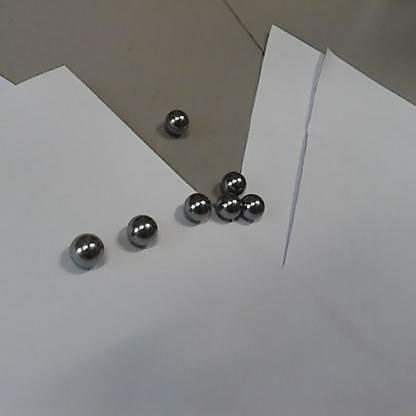ironball: (123, 212, 161, 249), (67, 231, 104, 269), (180, 191, 214, 228), (236, 189, 265, 223), (163, 106, 192, 136), (218, 166, 247, 196), (213, 192, 240, 222)
